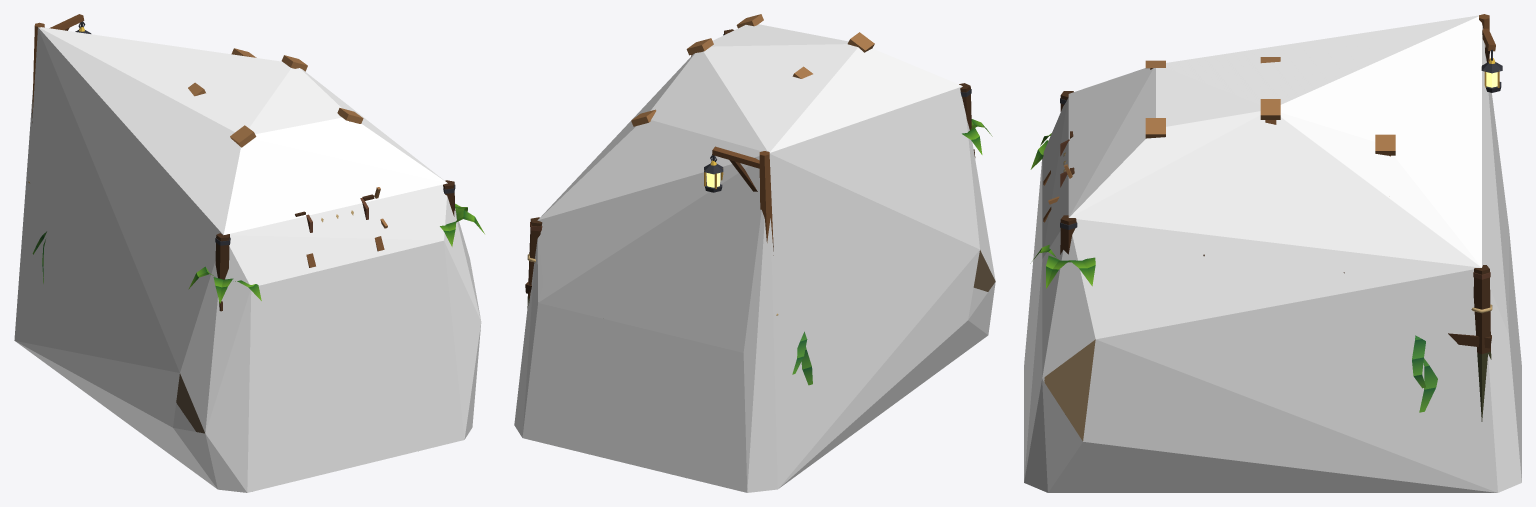
Rendered from careening_ship_drydock.glb.
The picture shows the model from 3 angles, left to right: view 1: azimuth 30°, elevation 25°; view 2: azimuth 150°, elevation 25°; view 3: azimuth 270°, elevation 25°; orthographic projection. The views are drawn at different scales.
Parts seen in each view (by area): view 1: col_drydock_cradle, CareeningShipDrydock; view 2: col_drydock_cradle, CareeningShipDrydock; view 3: col_drydock_cradle, CareeningShipDrydock.
Part boxes in pixels (bbox=[...]): col_drydock_cradle: bbox=[14, 27, 481, 492]; CareeningShipDrydock: bbox=[28, 14, 484, 433]; col_drydock_cradle: bbox=[514, 24, 995, 492]; CareeningShipDrydock: bbox=[525, 14, 995, 385]; col_drydock_cradle: bbox=[1024, 15, 1521, 492]; CareeningShipDrydock: bbox=[1030, 14, 1502, 440].
Bounding box in the file's own units: 8.04 × 8.4 × 10.84.
